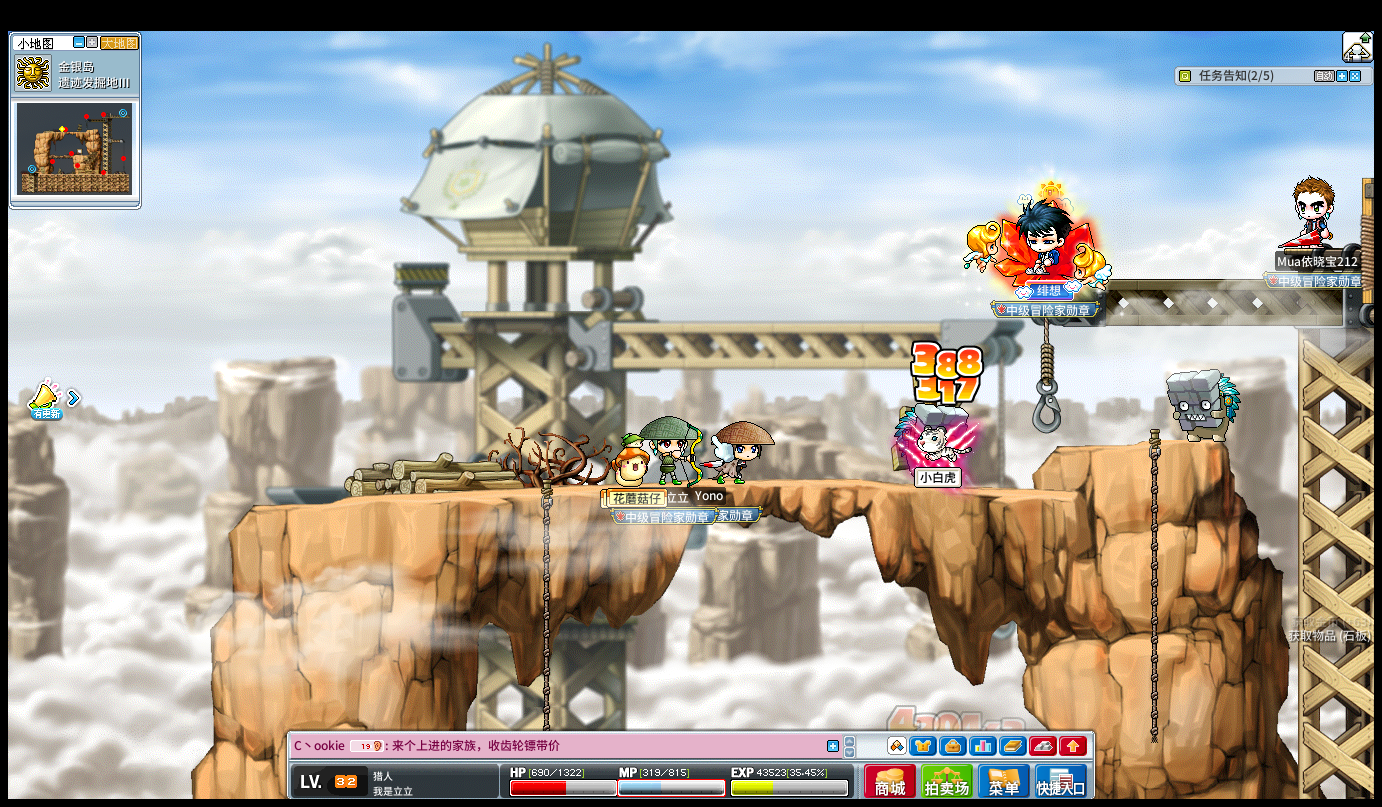floor: (233, 476, 1127, 501), (1057, 436, 1220, 451), (1055, 438, 1215, 453)
monster: (893, 402, 973, 486), (1165, 368, 1240, 442)
rope: (1145, 424, 1161, 747), (538, 476, 551, 750), (540, 474, 552, 679)
